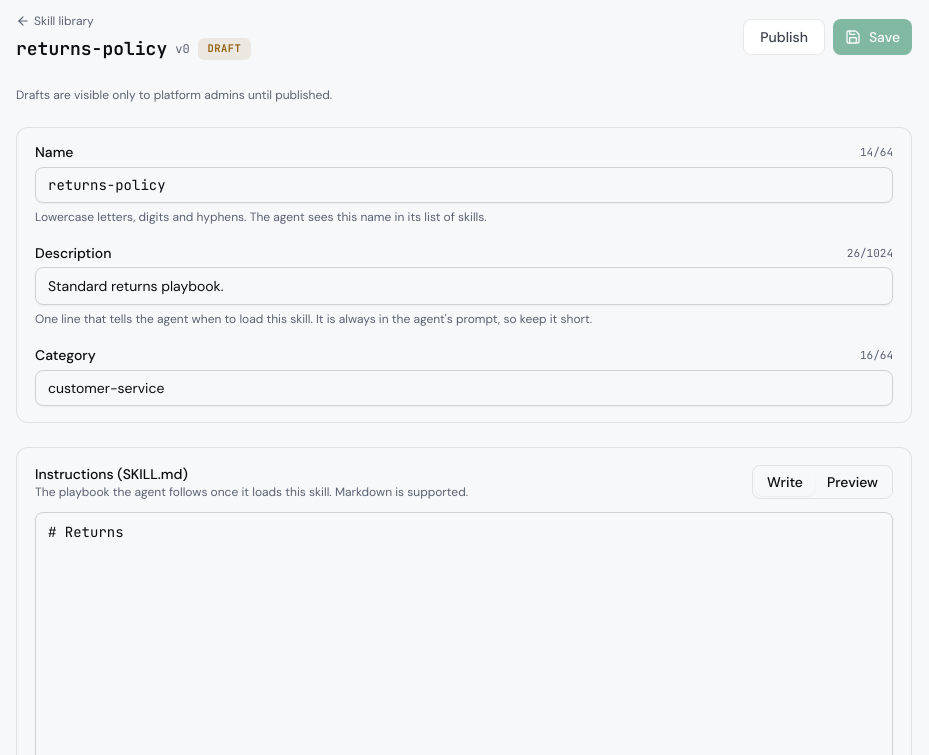
it: LibrarySkillEditor › publishes a saved draft
This screenshot has width=929, height=755.
Click the button "Publish". click: (784, 37)
box: left=743, top=19, right=825, bottom=55
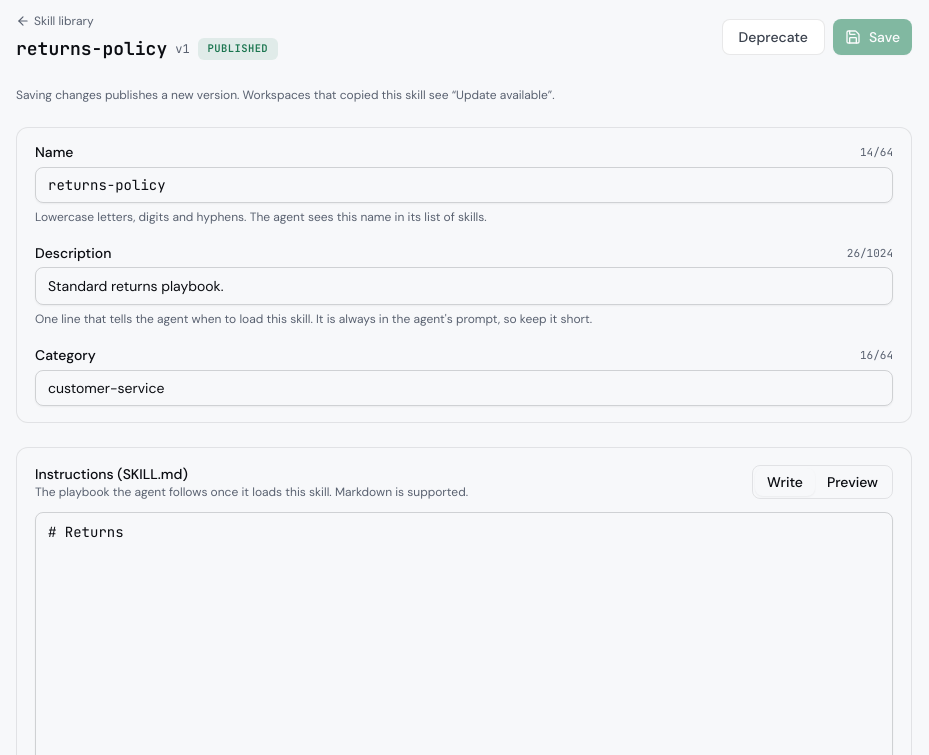
Check: the button "Deprecate" is shown, box left=722, top=19, right=825, bottom=55
